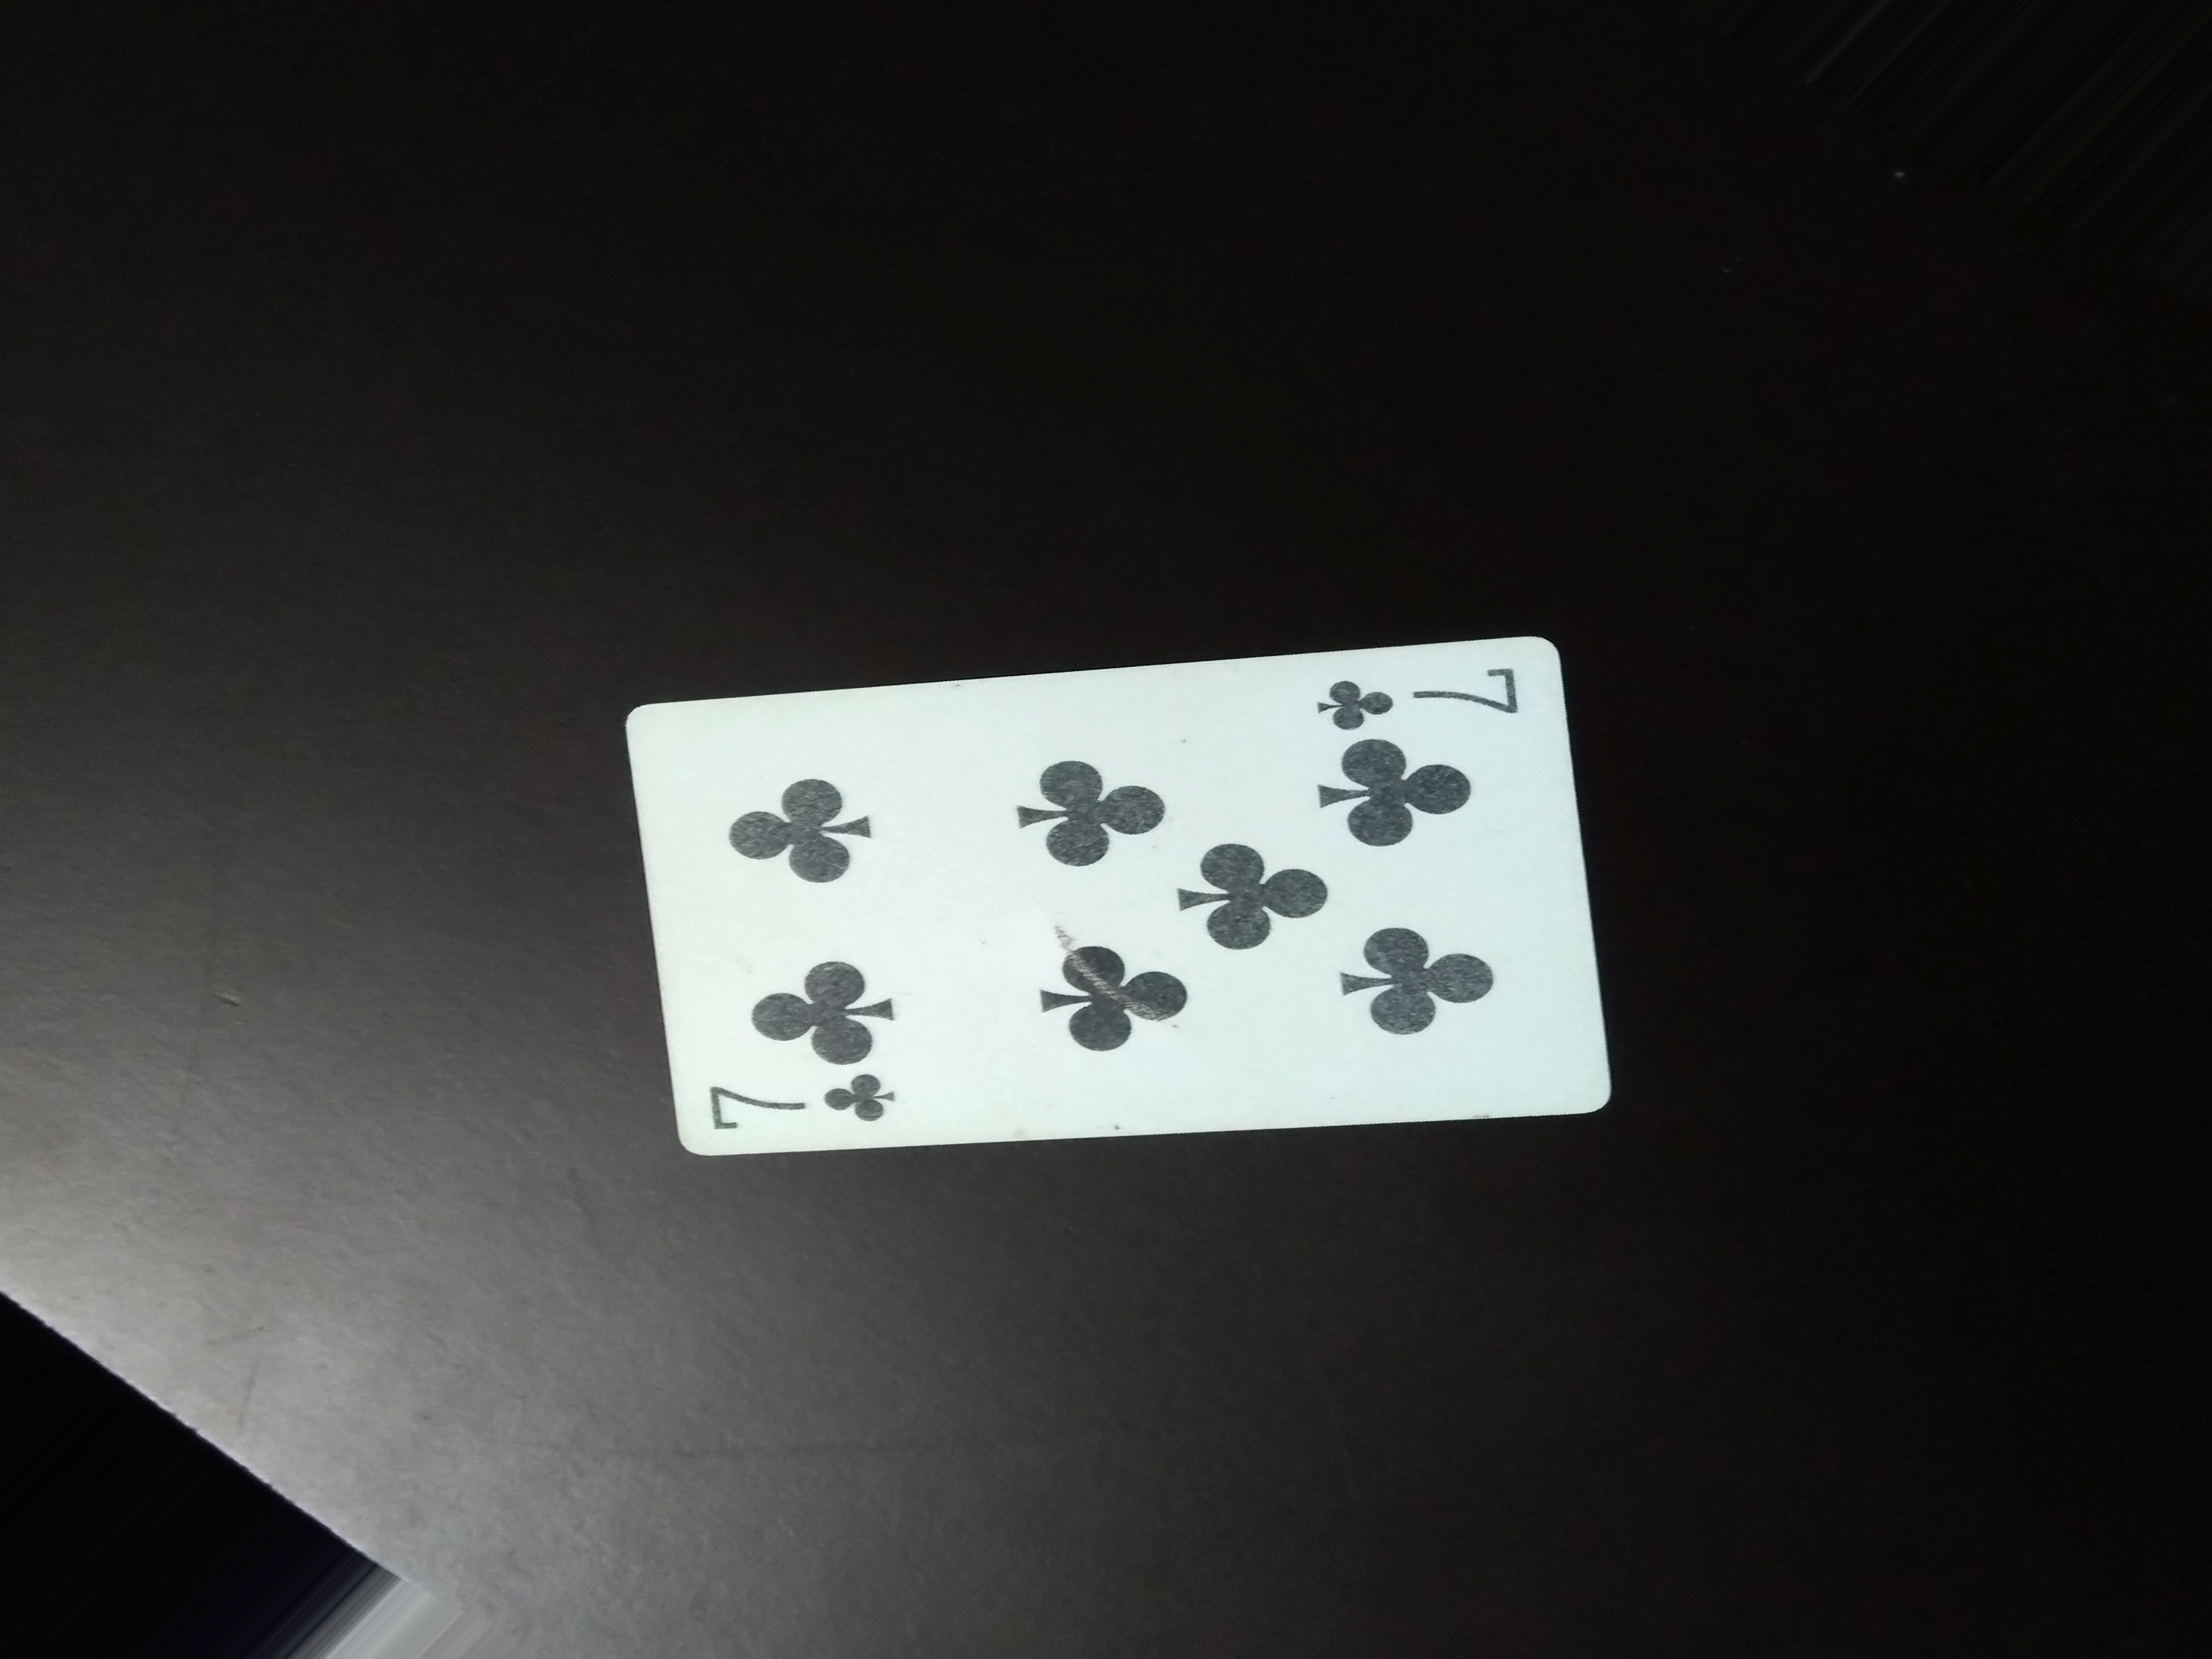7C: (1310, 629, 1550, 734)
